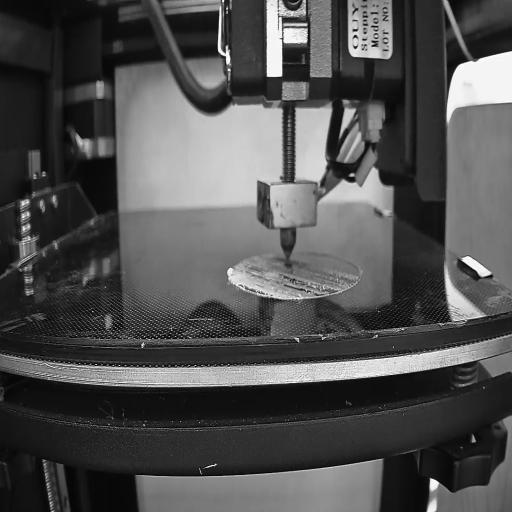under_extrusion: (278, 270, 353, 298), (238, 261, 272, 301)
